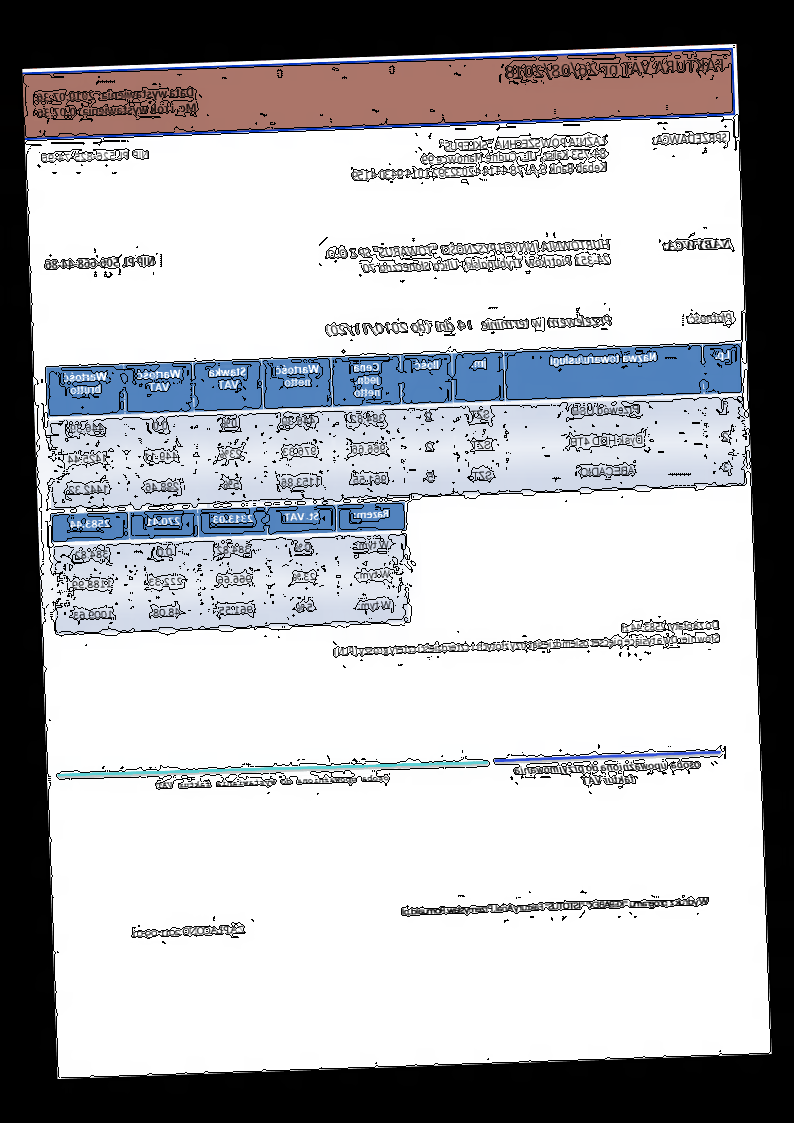Table: (44, 341, 747, 511), (49, 500, 411, 636)
TextBox: (331, 616, 721, 660), (348, 131, 609, 183), (323, 236, 613, 276), (399, 894, 712, 918), (323, 313, 613, 338), (503, 55, 727, 84), (33, 84, 199, 121), (510, 758, 702, 789), (153, 771, 392, 792), (42, 253, 158, 273), (129, 922, 247, 941), (39, 147, 151, 166), (650, 129, 730, 146), (659, 236, 734, 253), (685, 310, 735, 325)
